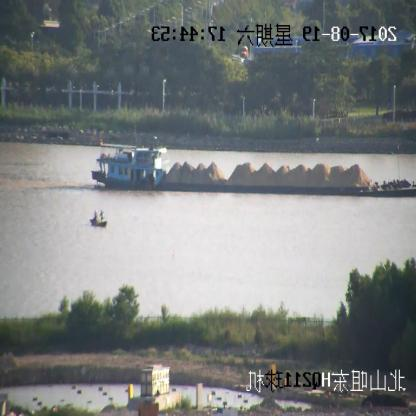Fishing Boat: (89, 210, 107, 228)
